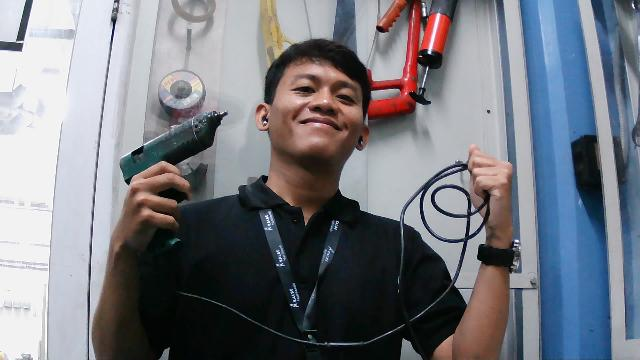gun_lem: (107, 106, 245, 252)
